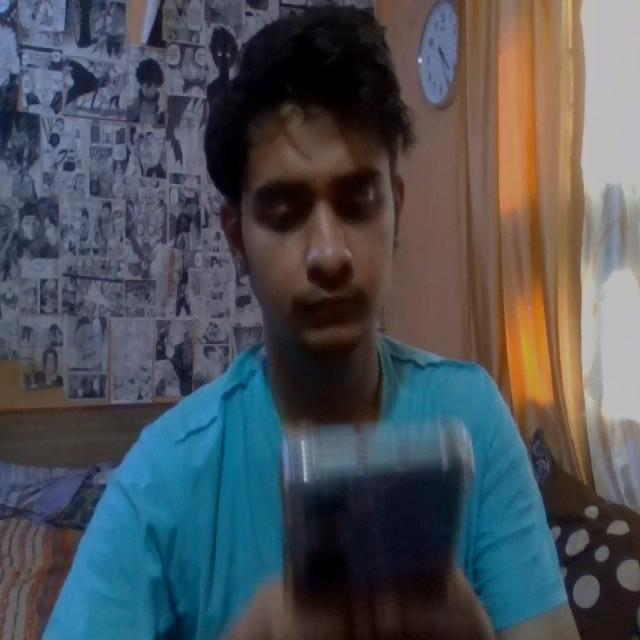phone: (269, 425, 475, 627)
using-phone: (44, 10, 606, 640)
